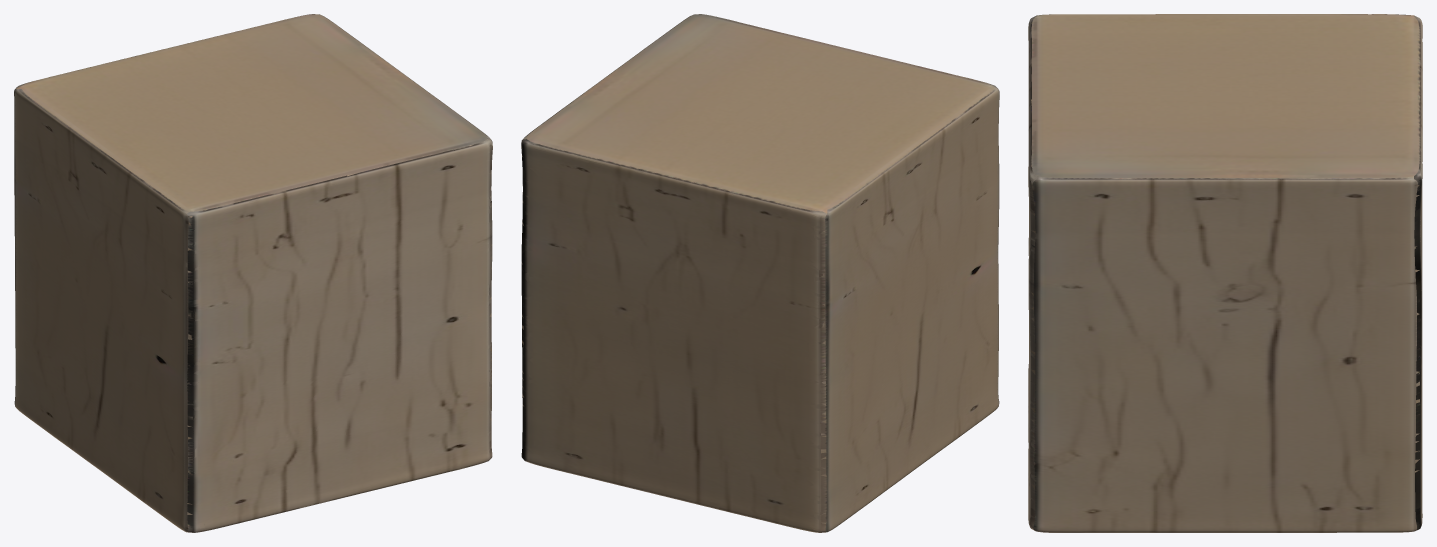
Rendered from pillar-timber.glb.
3 renders of one model, left to right at view 1: azimuth 30°, elevation 25°; view 2: azimuth 150°, elevation 25°; view 3: azimuth 270°, elevation 25°, orthographic. The views are drawn at different scales.
Parts seen in each view (by area): view 1: tmpmo1al7rc.ply; view 2: tmpmo1al7rc.ply; view 3: tmpmo1al7rc.ply.
Boxes of the visible parts, left/top/right/bottom form: tmpmo1al7rc.ply: left=14, top=14, right=492, bottom=532; tmpmo1al7rc.ply: left=521, top=14, right=999, bottom=532; tmpmo1al7rc.ply: left=1028, top=14, right=1422, bottom=532.
Bounding box in the file's own units: 1 × 1 × 1.
Materials: 1 (1 with a texture image).
